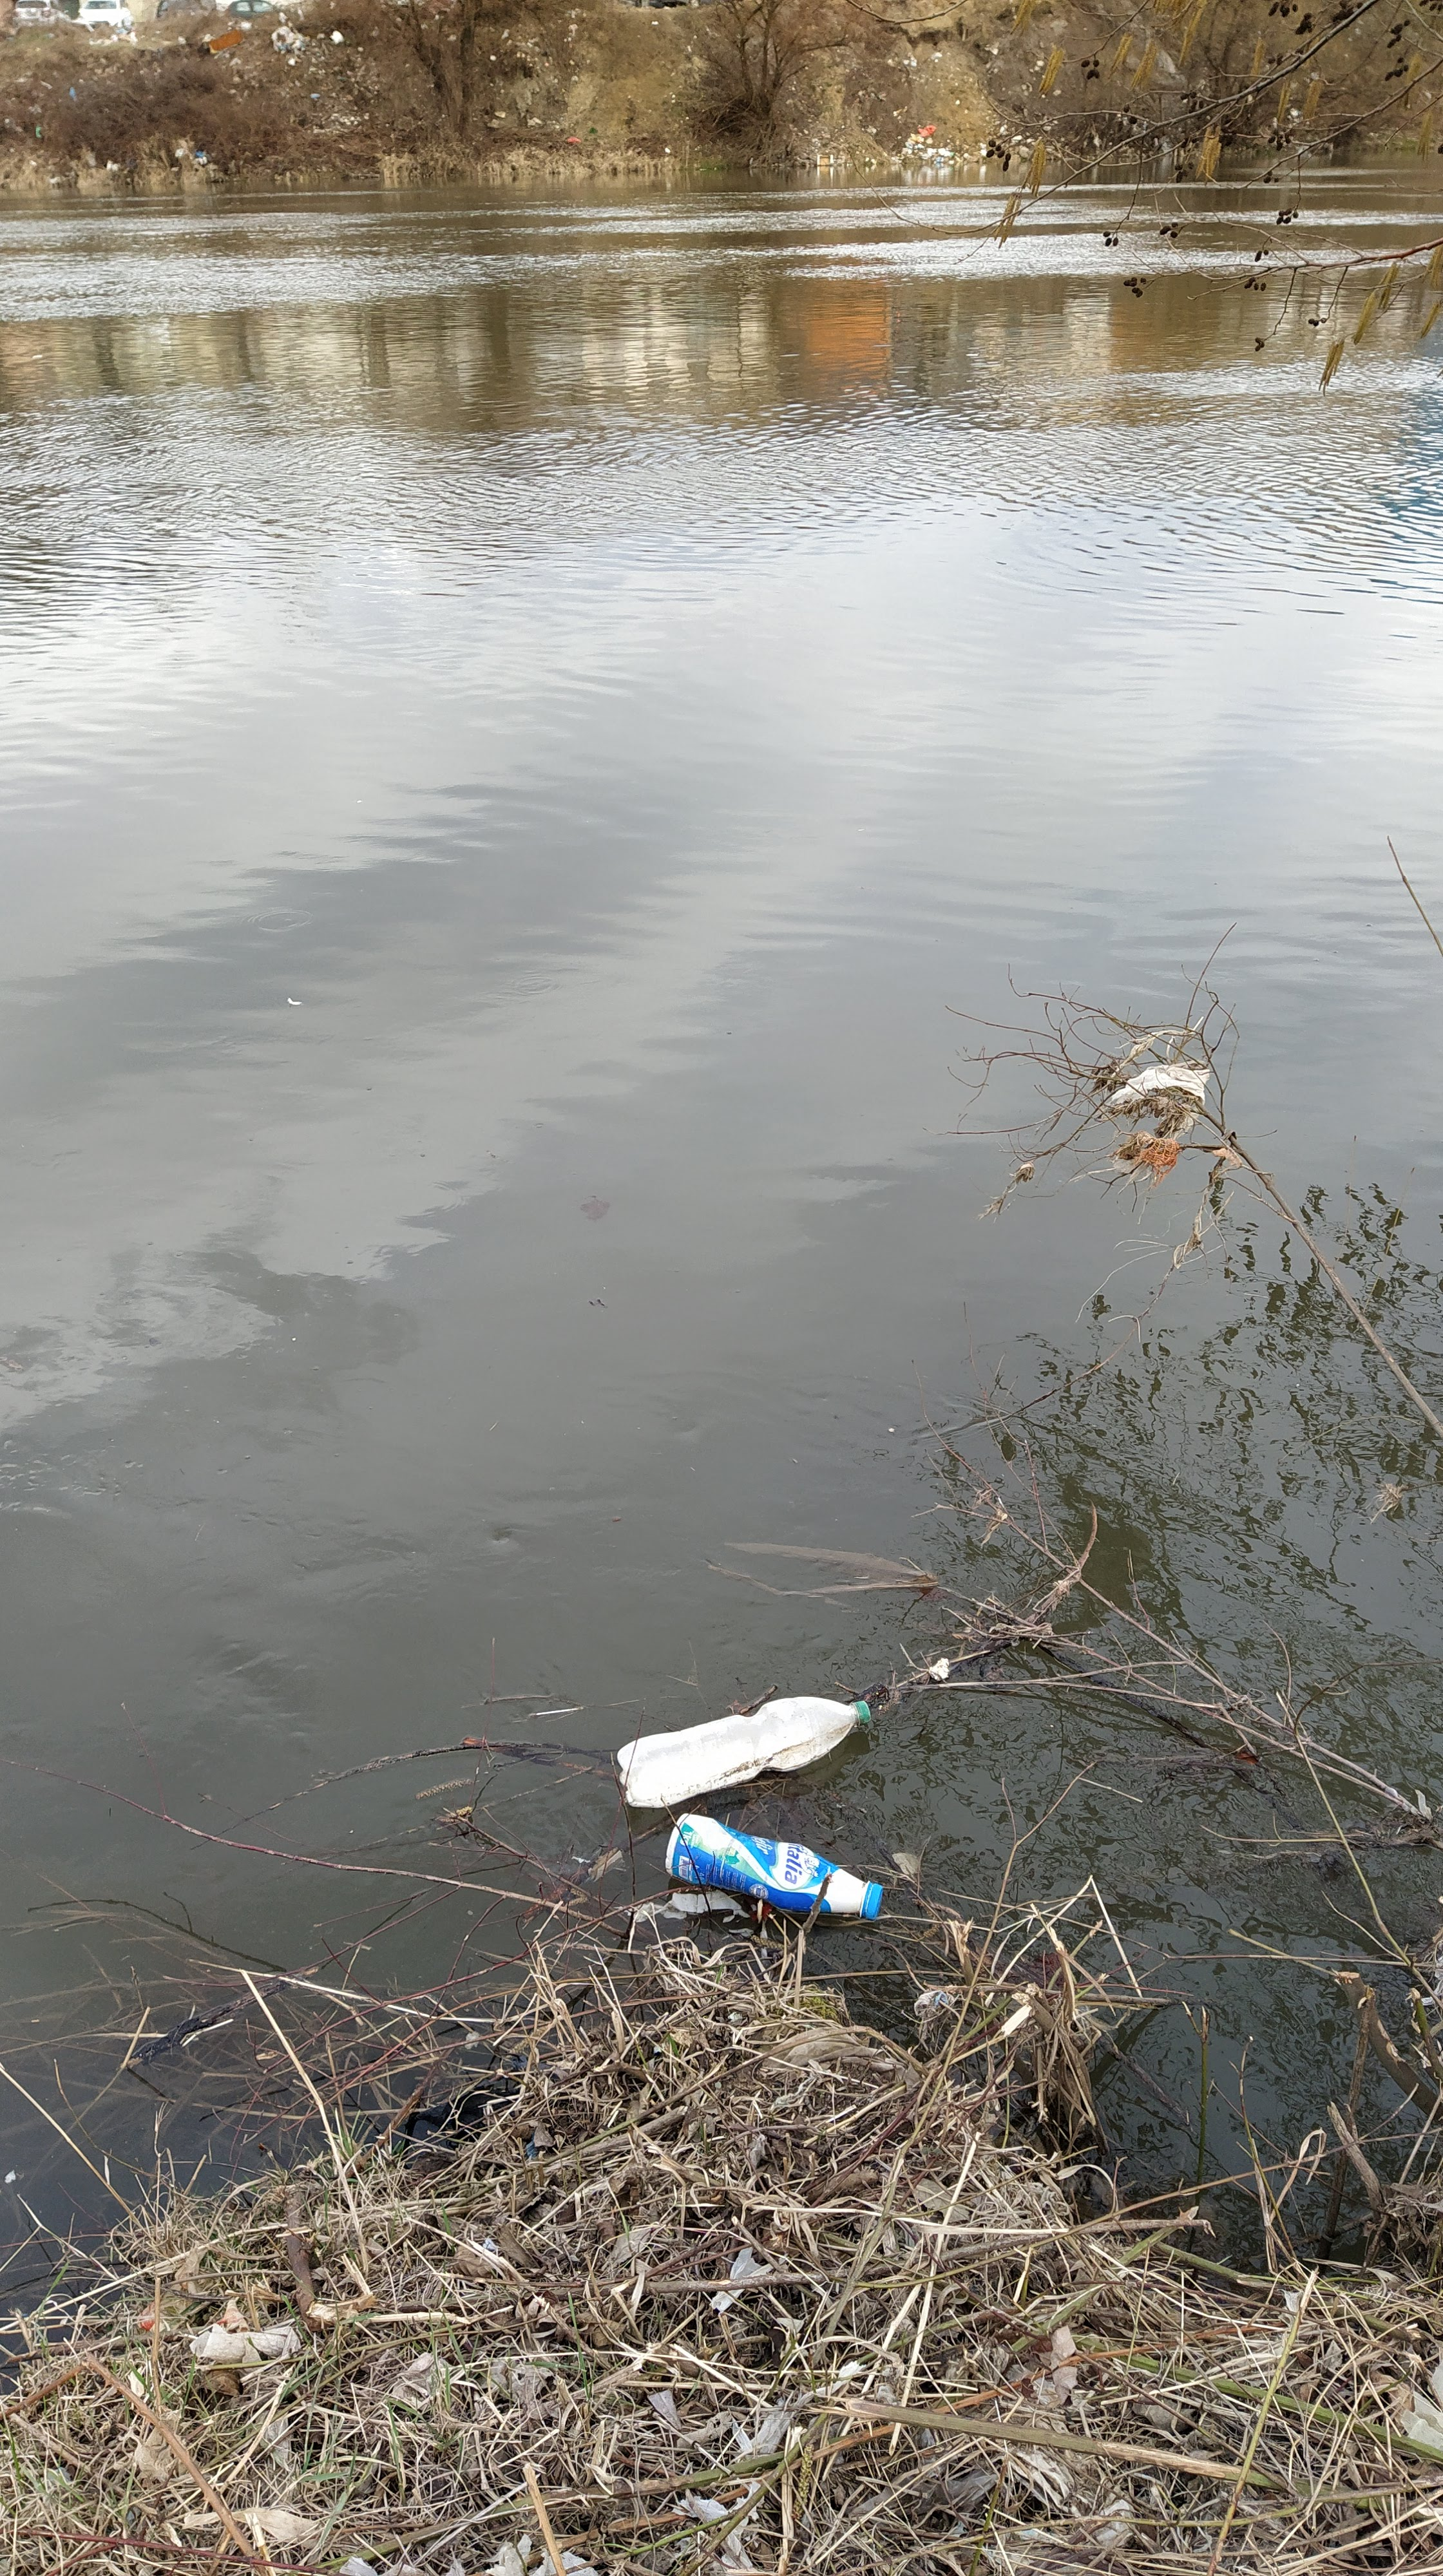Plastic Bottle: (616, 1695, 871, 1806), (666, 1813, 882, 1920)
